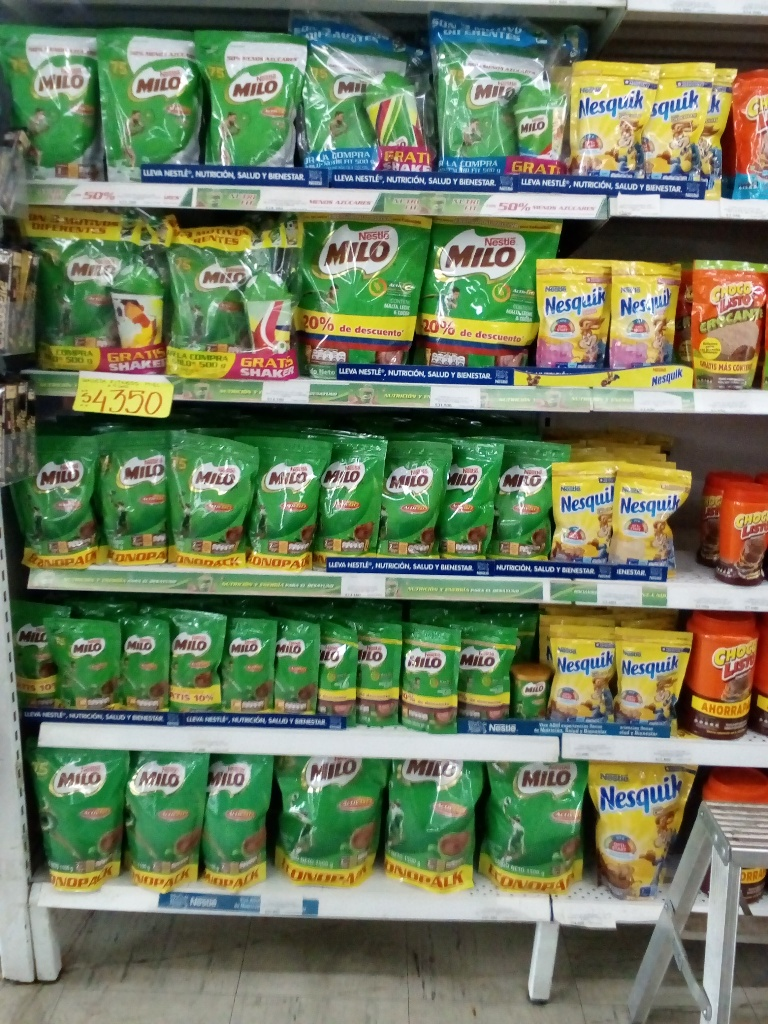COL0170102DYP25000: (685, 251, 763, 391)
COL0170103TRR00100: (686, 607, 759, 744)
COL0170103TRR30000: (717, 477, 768, 589)
COL0170104DYP20000: (725, 61, 765, 204)
COL0170203DYP25000: (15, 434, 97, 571)
COL0170203DYP50000: (23, 203, 115, 374)
COL0170203LAT20000: (514, 665, 552, 726)
COL0170205DYP50000: (3, 22, 101, 176)
COL0170303DYP20000: (549, 622, 615, 728)
COL0170305DYP20000: (534, 257, 609, 380)
COL0170306DYP20000: (617, 461, 693, 583)
